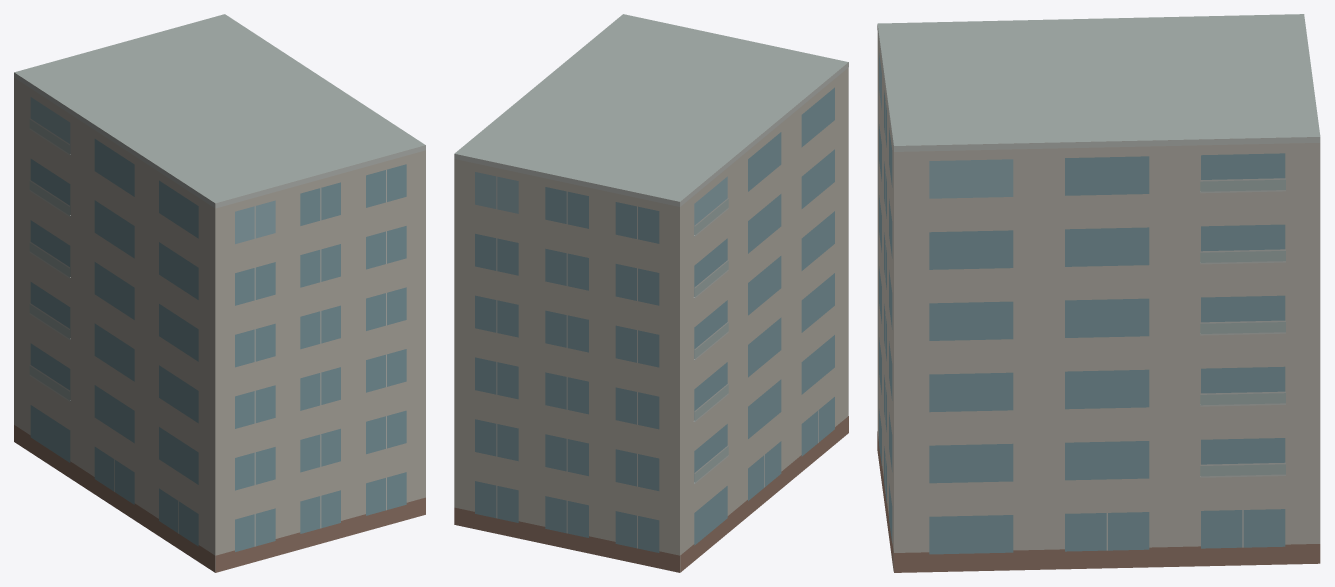
The model's file is survey-upis-32700525.glb.
The picture shows the model from 3 angles, left to right: view 1: azimuth 30°, elevation 25°; view 2: azimuth 150°, elevation 25°; view 3: azimuth 270°, elevation 25°; orthographic projection. The views are drawn at different scales.
Parts seen in each view (by area): view 1: survey-upis-32700525.tmp; view 2: survey-upis-32700525.tmp; view 3: survey-upis-32700525.tmp.
Boxes of the visible parts, x1=… form: survey-upis-32700525.tmp: x1=14, y1=14, x2=425, y2=572; survey-upis-32700525.tmp: x1=454, y1=14, x2=848, y2=572; survey-upis-32700525.tmp: x1=877, y1=14, x2=1320, y2=572.
Bounding box in the file's own units: 11.55 × 17.4 × 16.37.
